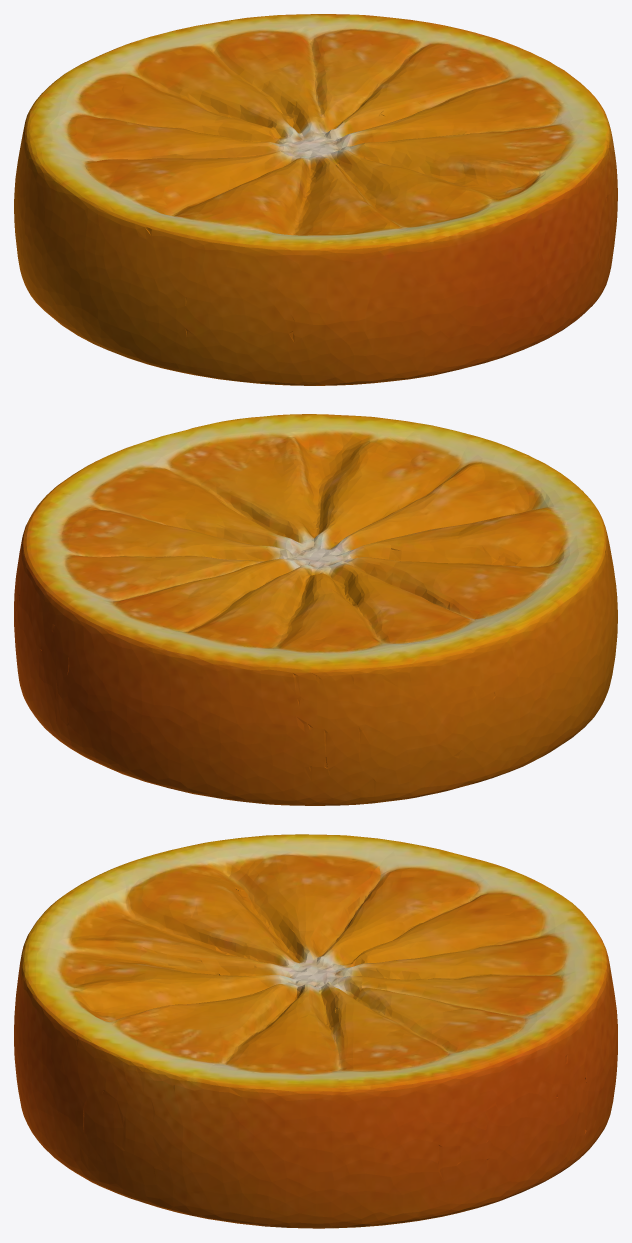
Rendered from orange.glb.
The picture shows the model from 3 angles, top to bottom: view 1: azimuth 30°, elevation 25°; view 2: azimuth 150°, elevation 25°; view 3: azimuth 270°, elevation 25°; orthographic projection. The views are drawn at different scales.
Parts seen in each view (by area): view 1: geometry_0; view 2: geometry_0; view 3: geometry_0.
Boxes of the visible parts, <box> form: geometry_0: <box>14,14,617,385</box>; geometry_0: <box>14,414,617,805</box>; geometry_0: <box>14,834,617,1228</box>.
Bounding box in the file's own units: 0.9993 × 0.2701 × 0.9832.
1 material, 1 textured.
